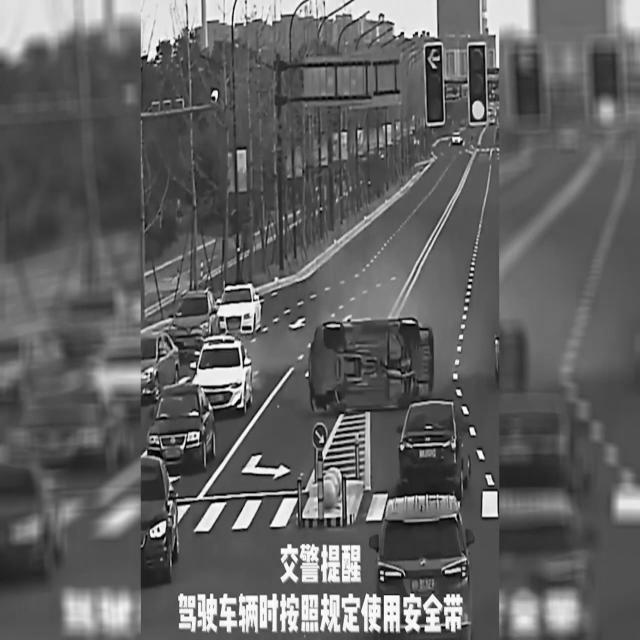accident: (308, 308, 432, 414)
vehicle: (373, 498, 473, 620), (401, 401, 471, 501), (146, 383, 220, 475), (143, 451, 183, 583), (188, 336, 252, 416), (141, 324, 181, 406), (218, 277, 262, 339), (172, 287, 212, 350), (448, 132, 466, 146)
